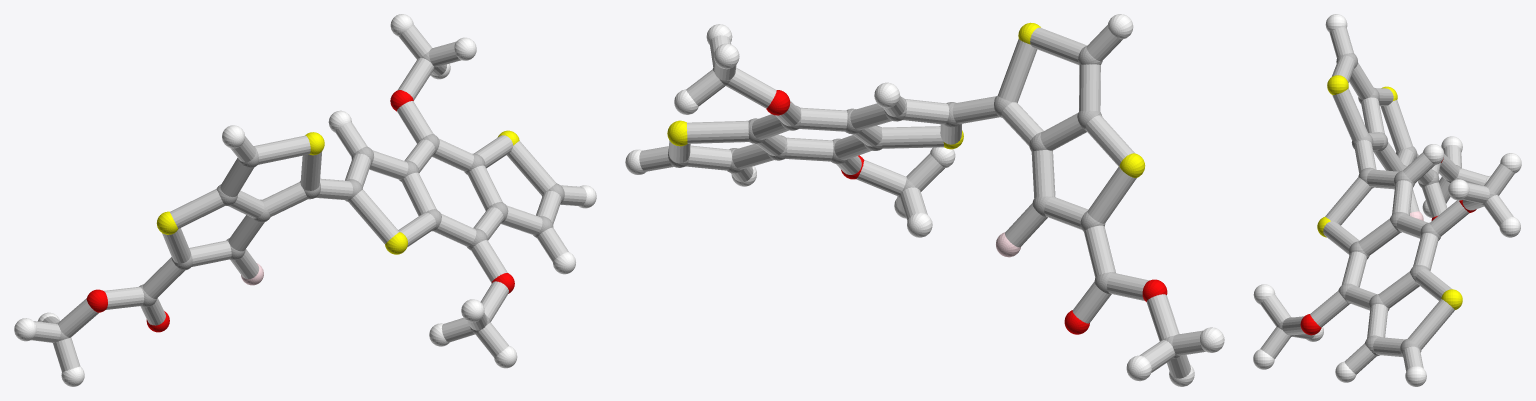
File: color.glb
3 views of the same model, side by side, from view 1: azimuth 30°, elevation 25°; view 2: azimuth 150°, elevation 25°; view 3: azimuth 270°, elevation 25° (orthographic). The views are drawn at different scales.
Visible parts, largest first — view 1: grp15205, grp8689, grp1, grp7241, grp13395; view 2: grp15205, grp8689, grp1, grp7241, grp13395; view 3: grp15205, grp8689, grp1, grp7241, grp13395.
Boxes of the visible parts, x1=… form: grp15205: x1=31, y1=24, x2=586, y2=371; grp8689: x1=14, y1=14, x2=596, y2=386; grp1: x1=55, y1=51, x2=564, y2=341; grp7241: x1=156, y1=130, x2=519, y2=254; grp13395: x1=86, y1=90, x2=514, y2=332; grp15205: x1=639, y1=25, x2=1205, y2=378; grp8689: x1=625, y1=14, x2=1224, y2=386; grp1: x1=668, y1=46, x2=1180, y2=358; grp7241: x1=667, y1=22, x2=1145, y2=177; grp13395: x1=766, y1=90, x2=1167, y2=334; grp15205: x1=1260, y1=27, x2=1514, y2=374; grp8689: x1=1253, y1=14, x2=1521, y2=386; grp1: x1=1277, y1=53, x2=1496, y2=356; grp7241: x1=1317, y1=75, x2=1462, y2=309; grp13395: x1=1300, y1=159, x2=1476, y2=335.
Bounding box in the file's own units: 16.62 × 7.7 × 7.47.
